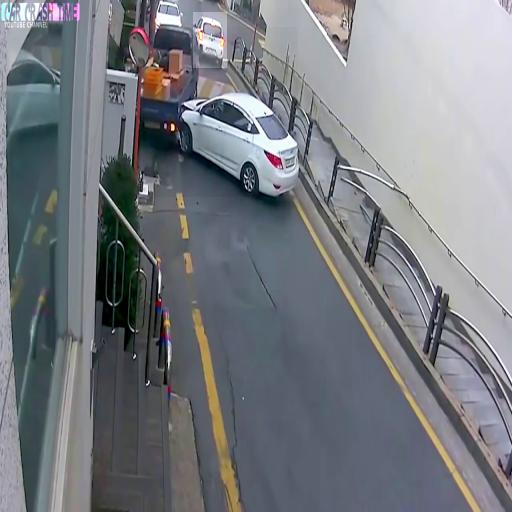小汽车: (193, 12, 227, 68)
小汽车撞小汽车: (143, 27, 298, 197)
